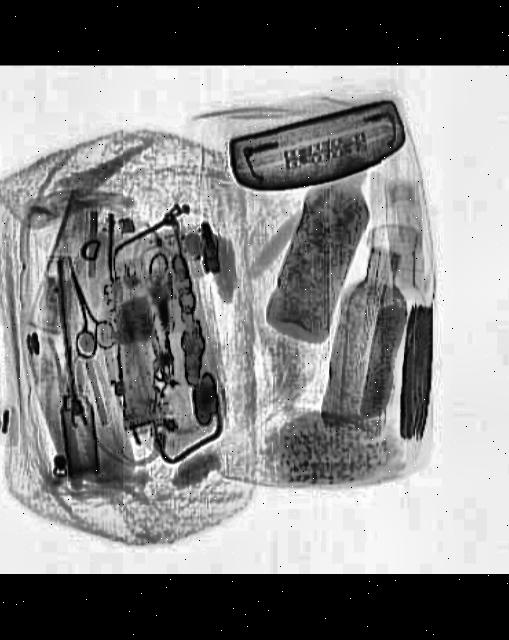Scissors: (42, 252, 117, 363)
